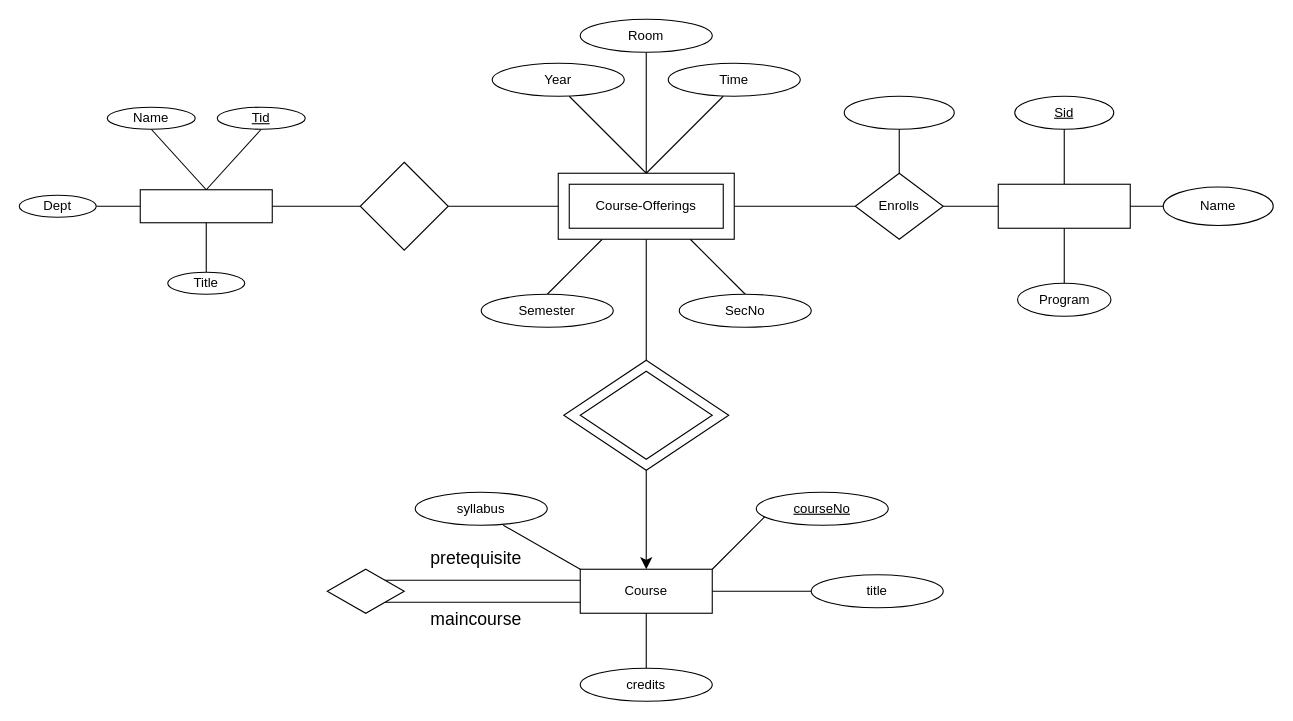
Image size: 1293x721. Some labels were removed from this diagram. The shapes that lost their labels are listed below. From the top down, each one's centre as x and y in pixels, then its label:
the point at 898,112: Grade
the point at 205,206: Teacher
the point at 403,205: teaches
the point at 1063,205: Student
the point at 645,414: Is offered
the point at 365,590: Requires
